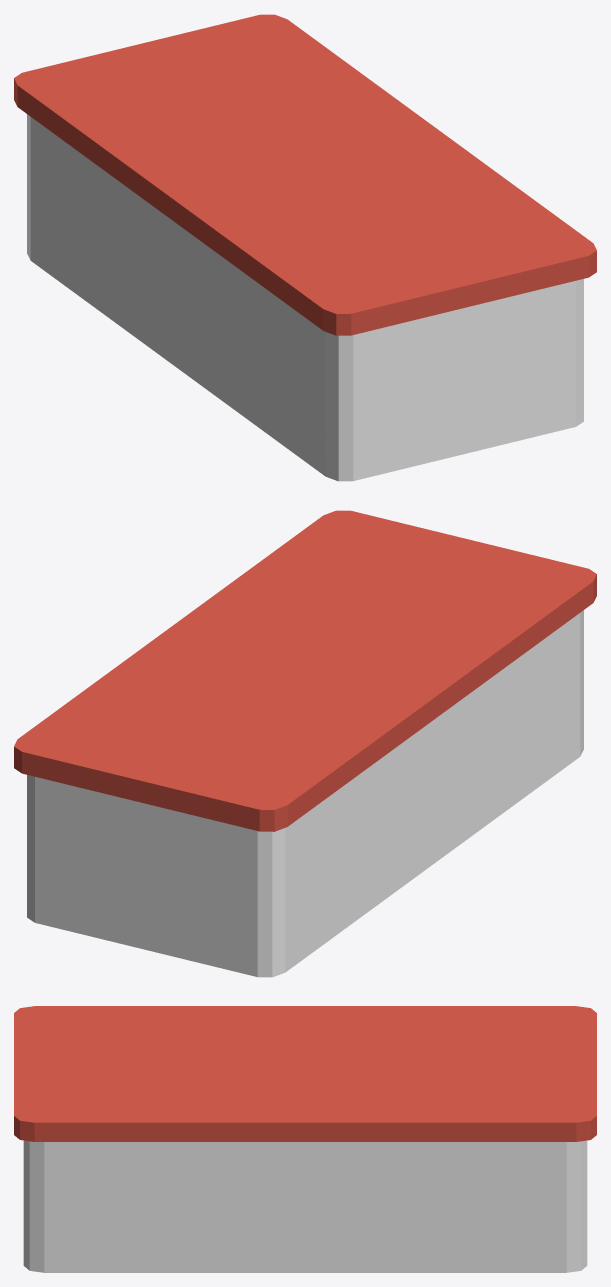
Rendered from Display_LLP.fbx.
The picture shows the model from 3 angles, top to bottom: view 1: azimuth 30°, elevation 25°; view 2: azimuth 150°, elevation 25°; view 3: azimuth 270°, elevation 25°; orthographic projection. The views are drawn at different scales.
Visible parts, largest first — view 1: Display_LLP; view 2: Display_LLP; view 3: Display_LLP.
Part boxes in pixels (x1,y1,x2,y2): Display_LLP: (14, 14, 596, 481); Display_LLP: (14, 510, 596, 977); Display_LLP: (14, 1006, 596, 1272).
Size of the model in its own units: 517 by 317 by 1093.
